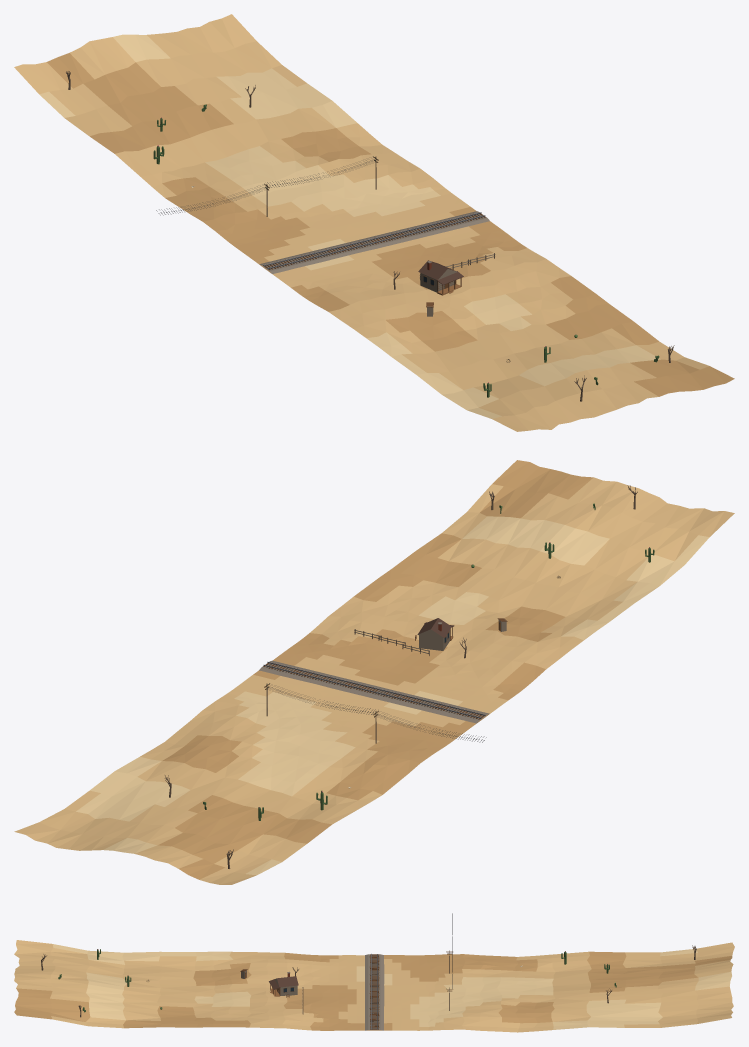
File: SM_FG_Chunk_Landmark_Shack_A.fbx
The picture shows the model from 3 angles, top to bottom: view 1: azimuth 30°, elevation 25°; view 2: azimuth 150°, elevation 25°; view 3: azimuth 270°, elevation 25°; orthographic projection. The views are drawn at different scales.
Visible parts, largest first — view 1: FG_Chunk_Landmark_Shack_A_Track; view 2: FG_Chunk_Landmark_Shack_A_Track; view 3: FG_Chunk_Landmark_Shack_A_Track.
Boxes of the visible parts, left/top/right/bottom form: FG_Chunk_Landmark_Shack_A_Track: left=14, top=14, right=734, bottom=431; FG_Chunk_Landmark_Shack_A_Track: left=14, top=460, right=734, bottom=884; FG_Chunk_Landmark_Shack_A_Track: left=14, top=913, right=734, bottom=1032.
Bounding box in the file's own units: 6250 × 992 × 20155.
